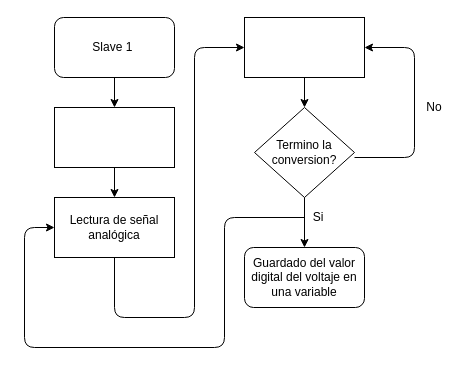
This 472x373 diagram has some shape labels left out. Each missing label, with the centre of its shape:
"Conversión analógica/digital" goes at point (304, 47).
"Seteado de entradas y salidas A/D" goes at point (114, 137).
